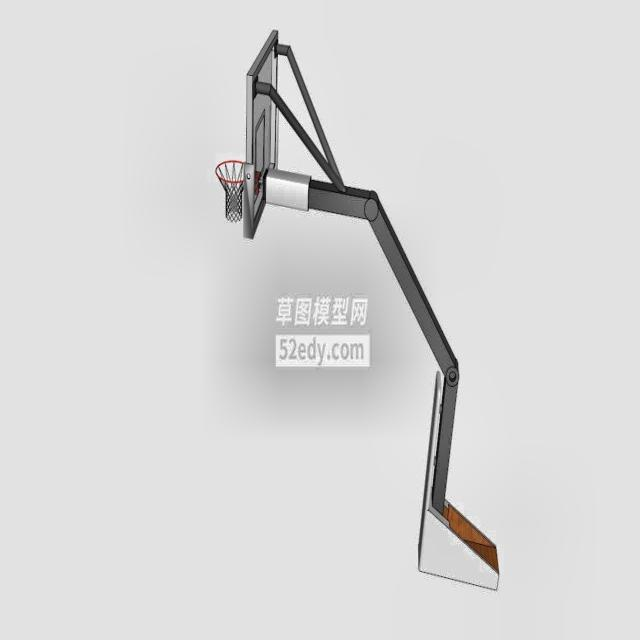rim: (214, 159, 246, 222)
